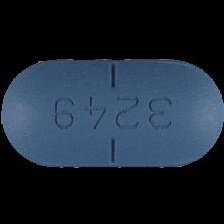52959-303: (0, 0, 224, 224)
